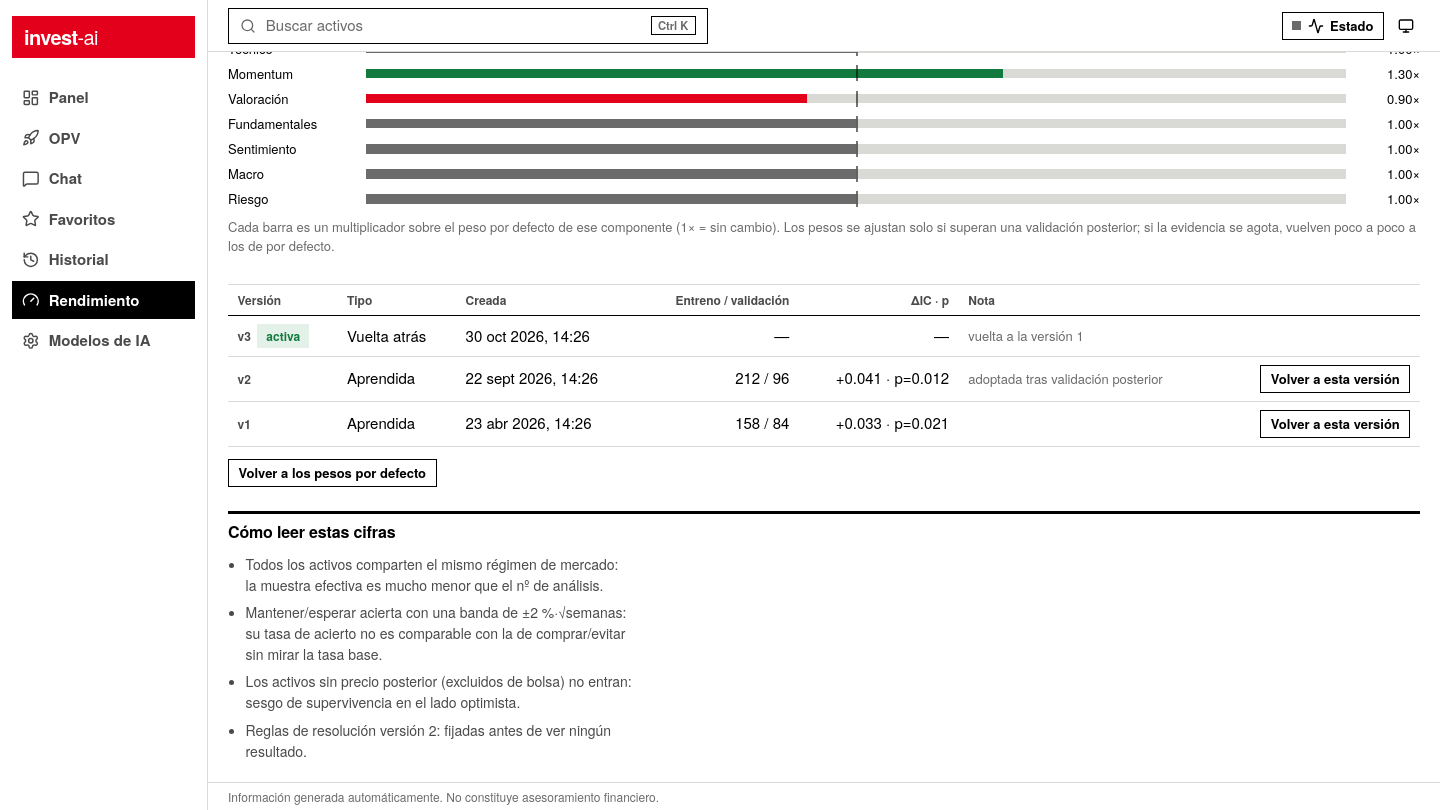
Test: PerformancePage › un error del servidor al volver atrás se ve
(page scrolled)
Step 1. Click the button with aria-label "Volver a la versión 1" → (1335, 424), box [1260,410,1410,438]
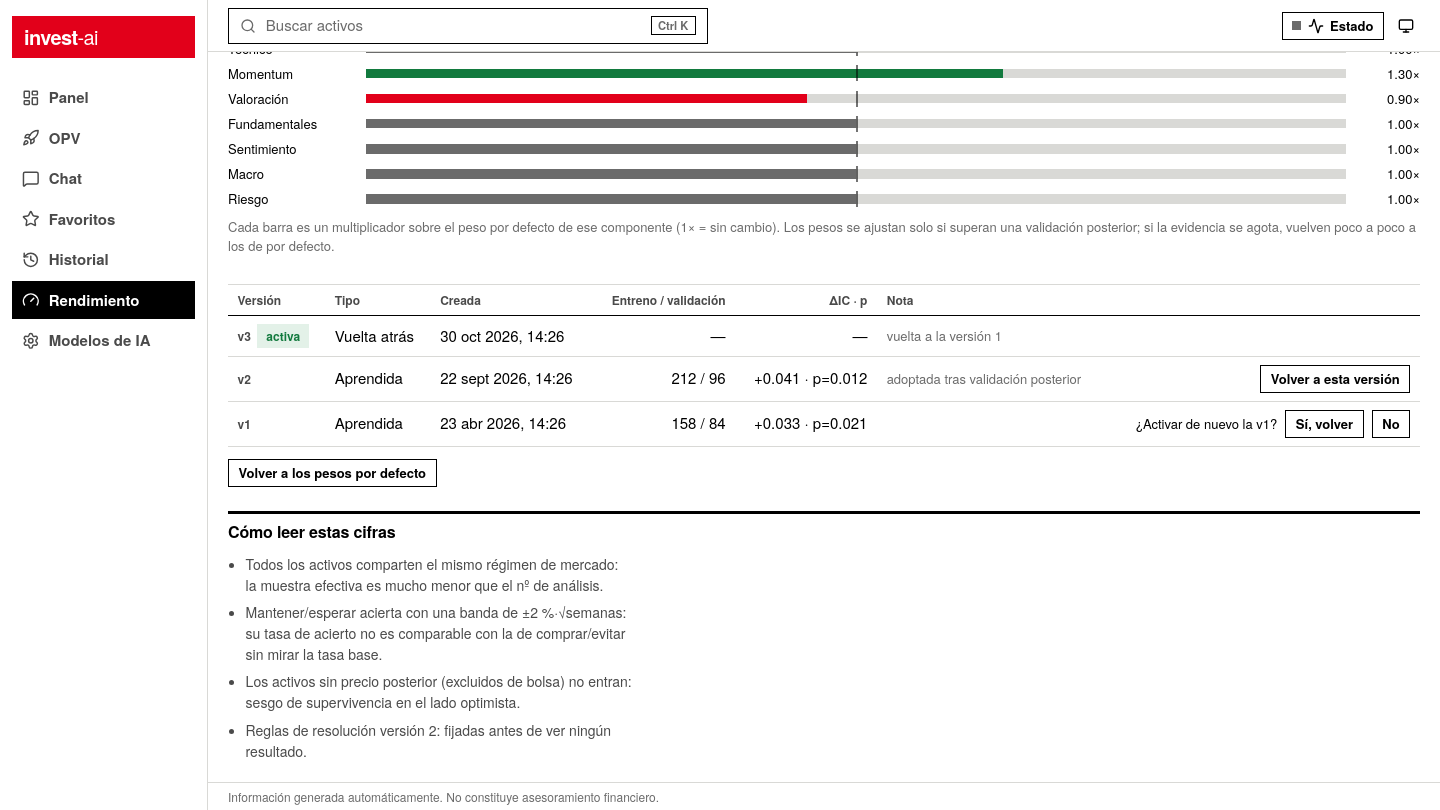
Step 2. Click the button "Sí, volver" → (1325, 424), box [1285,410,1364,438]
(page scrolled)
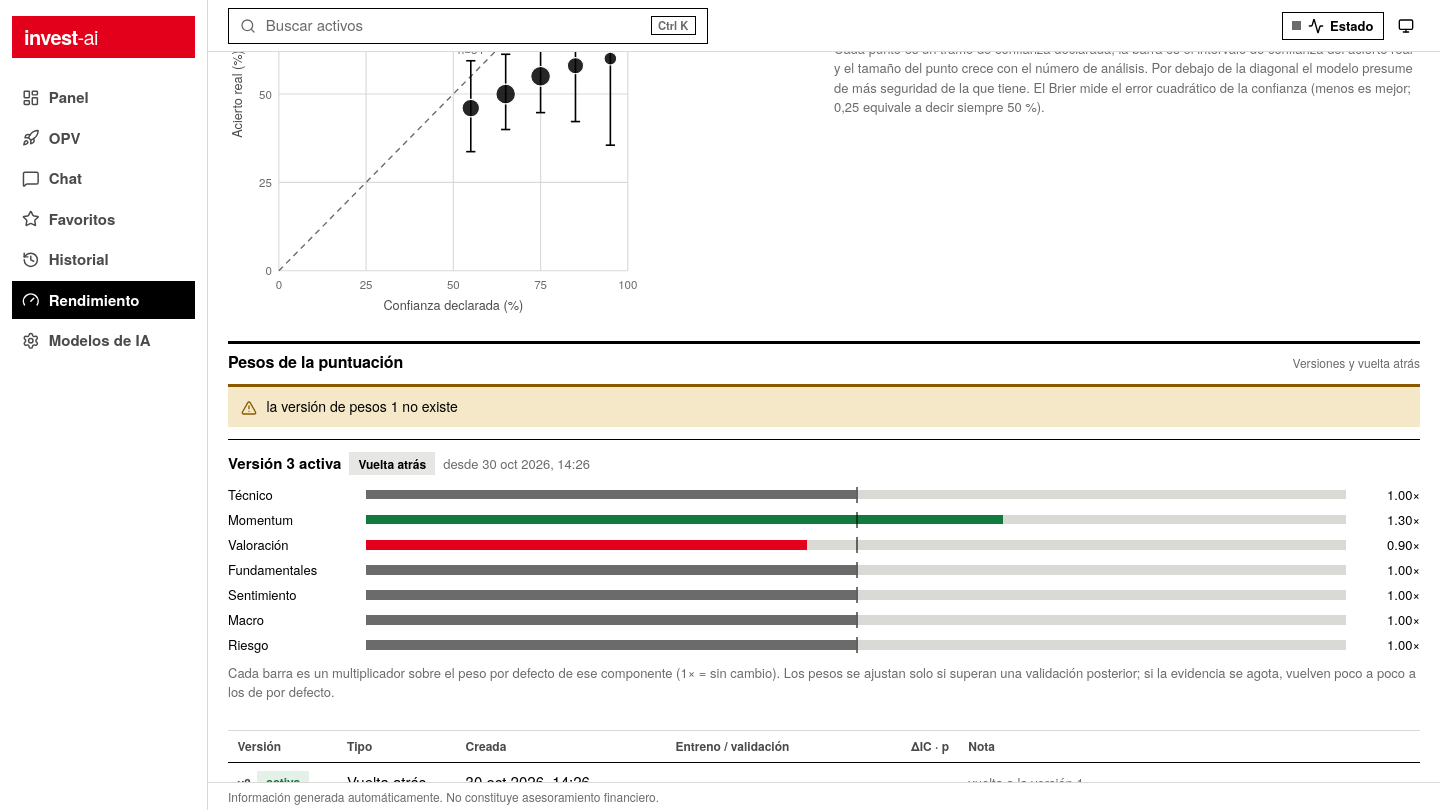
Now the message reads "la versión de pesos 1 no existe", box [266,396,458,416]
